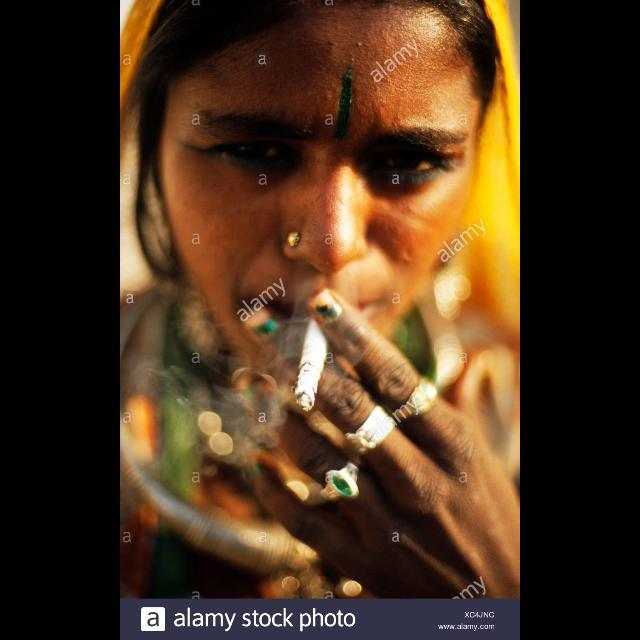rokok: (293, 304, 331, 414)
